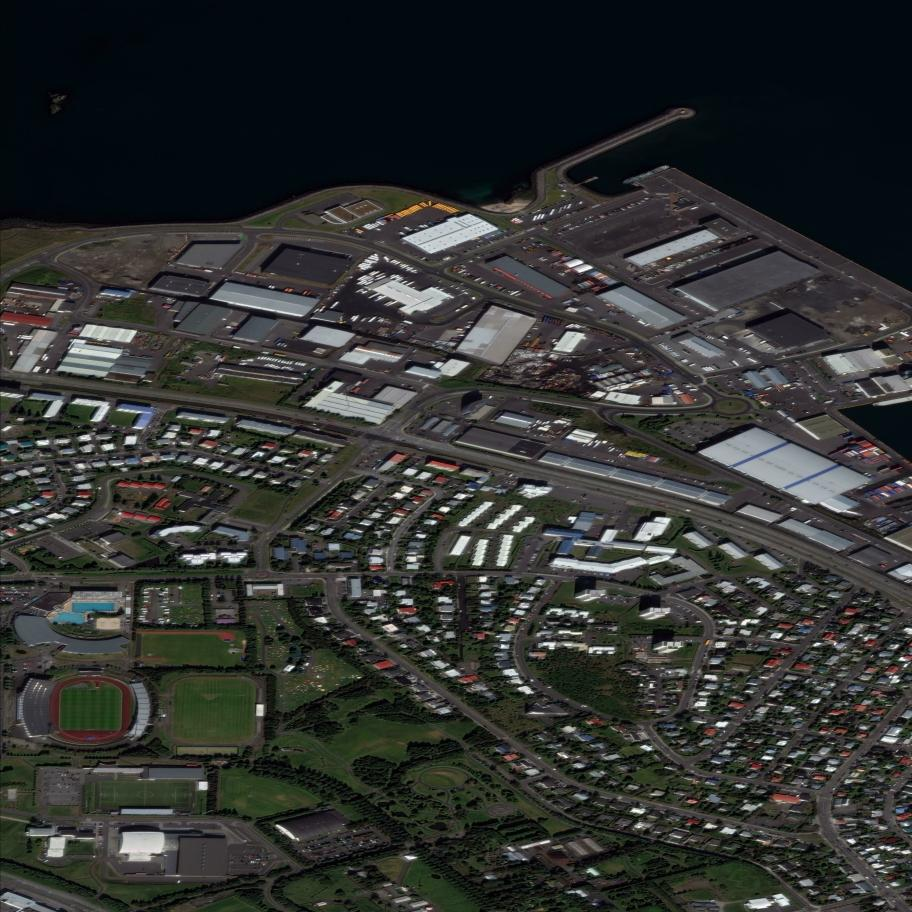large-vehicle: (40, 348, 50, 361), (452, 264, 466, 273), (386, 300, 399, 308), (368, 292, 380, 300), (374, 295, 387, 302), (592, 440, 602, 449), (329, 301, 339, 310), (682, 347, 692, 356), (359, 263, 372, 269), (375, 275, 386, 282), (357, 274, 368, 281), (19, 334, 34, 339), (368, 315, 377, 323), (748, 356, 757, 364), (405, 280, 415, 287), (360, 275, 371, 281), (364, 259, 377, 264), (732, 359, 740, 367), (702, 366, 710, 374), (419, 224, 428, 231), (363, 224, 372, 231), (17, 336, 32, 340), (274, 353, 286, 358), (438, 205, 448, 211), (352, 314, 359, 322), (421, 201, 429, 208), (423, 223, 431, 230), (376, 220, 384, 227), (713, 363, 721, 370), (514, 217, 523, 223), (512, 218, 521, 224), (510, 290, 519, 296), (545, 315, 551, 324), (400, 264, 409, 270), (365, 280, 374, 286), (355, 288, 364, 294), (384, 300, 393, 306), (355, 227, 364, 233), (399, 231, 408, 237), (404, 226, 413, 232), (367, 223, 376, 229), (446, 207, 455, 213), (441, 205, 450, 211), (434, 203, 443, 209), (432, 202, 441, 208), (443, 206, 453, 211), (449, 209, 459, 214), (419, 202, 426, 209), (729, 361, 736, 368), (705, 365, 712, 372), (415, 204, 423, 210), (411, 205, 419, 211), (511, 219, 519, 225), (542, 315, 548, 323), (489, 283, 497, 289), (485, 282, 493, 288), (366, 275, 374, 281), (549, 208, 555, 216), (397, 211, 405, 217), (404, 209, 412, 215), (406, 208, 414, 214), (764, 386, 773, 391), (455, 268, 464, 273), (359, 281, 368, 286), (759, 339, 768, 344), (365, 224, 374, 229), (436, 204, 445, 209), (402, 210, 409, 216), (413, 205, 420, 211), (360, 317, 367, 323), (507, 290, 514, 296), (43, 355, 49, 362), (536, 213, 542, 220), (396, 212, 403, 218), (705, 638, 710, 646), (458, 269, 466, 274), (399, 263, 407, 268), (688, 362, 696, 367), (409, 207, 417, 212), (609, 447, 615, 453), (448, 209, 457, 213), (507, 473, 513, 479), (391, 260, 398, 265), (394, 261, 401, 266), (406, 267, 413, 272), (389, 259, 396, 264), (474, 277, 481, 282), (562, 204, 567, 211), (400, 211, 407, 216), (558, 206, 563, 213), (540, 213, 545, 220), (708, 366, 715, 371), (408, 208, 415, 213), (371, 223, 378, 228), (262, 350, 269, 355), (233, 345, 241, 349), (205, 269, 213, 273), (300, 361, 305, 367), (618, 452, 623, 458), (294, 360, 299, 366), (281, 358, 286, 364), (277, 358, 283, 363), (310, 367, 316, 372), (480, 280, 486, 285), (532, 215, 537, 221), (356, 230, 362, 235), (286, 359, 291, 365), (495, 287, 502, 291), (410, 269, 417, 273), (464, 325, 471, 329), (397, 263, 404, 267), (669, 351, 676, 355), (666, 349, 673, 353), (664, 347, 671, 351), (673, 354, 680, 358), (672, 353, 679, 357), (297, 361, 302, 366), (541, 421, 546, 426), (545, 420, 550, 425), (581, 443, 586, 448), (271, 357, 276, 362), (274, 357, 279, 362), (289, 360, 294, 365), (281, 365, 286, 370), (535, 419, 540, 424), (537, 420, 542, 425), (620, 453, 625, 458), (268, 357, 273, 362), (265, 356, 270, 361), (375, 222, 380, 227), (239, 362, 245, 366), (264, 363, 270, 367), (274, 366, 280, 370), (467, 321, 475, 324), (567, 203, 571, 209), (671, 352, 677, 356), (644, 323, 650, 327), (661, 345, 668, 348), (456, 328, 463, 331), (458, 334, 465, 337), (657, 343, 664, 346), (668, 384, 675, 387), (303, 362, 307, 367), (287, 366, 292, 370), (268, 363, 273, 367), (270, 364, 275, 368), (464, 291, 469, 295), (257, 355, 261, 360), (261, 355, 265, 360), (709, 335, 713, 340), (263, 356, 267, 361), (284, 359, 288, 364), (428, 201, 432, 206), (273, 365, 279, 368), (659, 344, 665, 347), (662, 346, 668, 349), (682, 360, 688, 363), (247, 359, 253, 362), (681, 359, 687, 362), (686, 385, 692, 388), (285, 365, 289, 369), (690, 389, 698, 391), (706, 335, 710, 339), (289, 368, 294, 371), (668, 351, 673, 354), (663, 347, 668, 350), (241, 359, 246, 362), (143, 596, 150, 598), (138, 618, 145, 620), (636, 360, 643, 362), (164, 612, 170, 614), (163, 598, 169, 600), (141, 608, 147, 610), (639, 362, 645, 364), (161, 605, 167, 607), (148, 587, 154, 589), (159, 618, 164, 620), (163, 601, 168, 603), (159, 593, 164, 595), (155, 588, 160, 590), (164, 609, 169, 611), (159, 621, 164, 623), (140, 615, 145, 617), (159, 623, 164, 625), (163, 592, 169, 593), (142, 611, 148, 612), (143, 621, 149, 622), (144, 601, 149, 602), (144, 592, 149, 593)
ship: (622, 162, 671, 187)
small-vehicle: (692, 479, 698, 484), (382, 483, 387, 488), (140, 434, 144, 440), (699, 482, 705, 486), (314, 428, 320, 432), (737, 347, 743, 351), (56, 484, 61, 488), (44, 859, 49, 863), (335, 854, 339, 859), (421, 257, 426, 261), (414, 254, 419, 258), (865, 865, 869, 870), (560, 272, 565, 276), (542, 258, 547, 262), (559, 323, 563, 328), (560, 319, 564, 324), (553, 321, 557, 326), (556, 322, 560, 327), (742, 349, 747, 353), (661, 295, 666, 299), (812, 396, 816, 401), (694, 374, 699, 378), (143, 453, 149, 456), (111, 456, 117, 459), (538, 257, 544, 260), (337, 854, 341, 858), (420, 679, 424, 683), (407, 516, 411, 520), (431, 485, 435, 489), (122, 426, 126, 430), (152, 425, 156, 429), (166, 297, 170, 301), (426, 484, 430, 488), (358, 633, 362, 637), (350, 628, 354, 632), (357, 504, 361, 508), (377, 488, 381, 492), (401, 383, 405, 387), (39, 820, 43, 824), (347, 519, 351, 523), (46, 820, 50, 824), (50, 821, 54, 825), (48, 821, 52, 825), (149, 422, 153, 426), (360, 840, 364, 844), (354, 513, 358, 517), (316, 844, 320, 848), (318, 843, 322, 847), (345, 514, 349, 518), (316, 859, 320, 863), (554, 184, 558, 188), (873, 873, 877, 877), (380, 240, 384, 244), (450, 254, 454, 258), (342, 351, 346, 355), (161, 296, 165, 300), (423, 310, 427, 314), (444, 257, 448, 261), (489, 240, 493, 244), (523, 432, 527, 436), (699, 440, 703, 444), (596, 456, 600, 460), (817, 364, 821, 368), (592, 455, 596, 459), (676, 326, 680, 330), (497, 484, 501, 488), (521, 627, 525, 631), (813, 767, 817, 771), (870, 654, 874, 658), (487, 235, 491, 239), (506, 234, 510, 238), (558, 186, 562, 190), (563, 189, 567, 193), (561, 199, 565, 203), (8, 592, 12, 596), (563, 274, 567, 278), (561, 273, 565, 277), (558, 271, 562, 275), (696, 325, 700, 329), (554, 318, 558, 322), (550, 321, 554, 325), (658, 333, 662, 337), (774, 352, 778, 356), (14, 590, 18, 594), (16, 590, 20, 594), (10, 554, 14, 558), (12, 590, 16, 594), (203, 431, 207, 435), (683, 324, 687, 328), (700, 330, 704, 334), (534, 224, 538, 228), (686, 609, 690, 613), (3, 589, 7, 593), (25, 590, 29, 594), (415, 510, 419, 514), (804, 381, 808, 385), (402, 522, 406, 526), (377, 458, 381, 462), (365, 498, 369, 502), (782, 354, 786, 358), (816, 362, 820, 366), (808, 385, 812, 389), (810, 394, 814, 398), (668, 426, 672, 430), (711, 314, 715, 318), (714, 313, 718, 317), (703, 332, 707, 336), (665, 427, 669, 431), (503, 235, 507, 239), (585, 205, 589, 209), (532, 242, 536, 246), (506, 228, 510, 232), (521, 214, 525, 218), (446, 256, 450, 260), (469, 259, 473, 263), (530, 236, 534, 240), (557, 318, 560, 323), (224, 457, 229, 460), (215, 455, 220, 458), (139, 439, 142, 444), (62, 316, 67, 319), (419, 447, 424, 450), (370, 463, 375, 466), (549, 316, 552, 321), (328, 421, 333, 424), (376, 240, 381, 243), (575, 225, 580, 228), (352, 426, 357, 429), (315, 417, 320, 420), (374, 451, 379, 454), (603, 212, 608, 215), (528, 264, 533, 267), (536, 209, 541, 212), (846, 669, 851, 672), (788, 558, 793, 561), (664, 808, 669, 811), (758, 829, 763, 832), (530, 265, 535, 268), (548, 320, 551, 325), (745, 351, 750, 354), (739, 348, 744, 351), (746, 352, 751, 355), (632, 596, 637, 599), (302, 475, 307, 478), (78, 457, 83, 460), (83, 456, 88, 459), (0, 558, 5, 561), (748, 388, 753, 391), (707, 372, 712, 375), (664, 297, 669, 300), (322, 600, 326, 603), (109, 400, 112, 404), (211, 454, 215, 457), (111, 424, 114, 428), (109, 409, 112, 413), (89, 304, 93, 307), (371, 841, 375, 844), (374, 840, 377, 844), (169, 298, 172, 302), (342, 837, 345, 841), (348, 844, 351, 848), (104, 299, 107, 303), (148, 300, 152, 303), (739, 378, 743, 381), (116, 425, 119, 429), (145, 436, 148, 440), (157, 410, 160, 414), (158, 417, 161, 421), (457, 529, 460, 533), (301, 842, 304, 846), (303, 841, 306, 845), (413, 518, 416, 522), (368, 466, 372, 469), (392, 537, 395, 541), (397, 529, 400, 533), (405, 526, 408, 530), (409, 522, 413, 525), (454, 529, 457, 533), (364, 505, 368, 508), (410, 453, 414, 456), (379, 486, 383, 489), (353, 829, 356, 833), (38, 819, 41, 823), (181, 449, 185, 452), (17, 463, 21, 466), (28, 513, 32, 516), (201, 455, 205, 458), (17, 597, 20, 601), (44, 820, 47, 824), (42, 858, 46, 861), (98, 842, 102, 845), (317, 851, 320, 855), (323, 850, 326, 854), (311, 845, 315, 848), (351, 835, 354, 839), (356, 842, 360, 845), (15, 597, 18, 601), (56, 824, 59, 828), (42, 820, 45, 824), (314, 844, 317, 848), (330, 848, 333, 852), (343, 592, 347, 595), (322, 858, 326, 861), (244, 839, 247, 843), (308, 840, 311, 844), (317, 838, 320, 842), (321, 837, 324, 841), (302, 849, 305, 853), (308, 848, 311, 852), (328, 856, 331, 860), (330, 856, 333, 860), (423, 326, 426, 330), (442, 258, 446, 261), (425, 325, 428, 329), (6, 449, 10, 452), (309, 855, 313, 858), (532, 211, 536, 214), (384, 242, 388, 245), (463, 250, 467, 253), (468, 248, 472, 251), (476, 245, 480, 248), (489, 235, 493, 238), (295, 413, 299, 416), (335, 462, 339, 465), (691, 443, 695, 446), (668, 433, 672, 436), (533, 434, 537, 437), (546, 434, 549, 438), (603, 457, 606, 461), (489, 463, 493, 466), (528, 212, 532, 215), (693, 444, 697, 447), (616, 448, 619, 452), (613, 460, 617, 463), (697, 319, 700, 323), (687, 323, 691, 326), (419, 378, 422, 382), (589, 220, 593, 223), (641, 200, 645, 203), (413, 354, 417, 357), (407, 359, 411, 362), (710, 315, 713, 319), (779, 674, 782, 678), (875, 885, 878, 889), (513, 482, 516, 486), (515, 480, 518, 484), (446, 401, 450, 404), (444, 439, 447, 443), (474, 241, 478, 244), (587, 221, 591, 224), (499, 237, 502, 241), (579, 208, 582, 212), (691, 321, 695, 324), (530, 556, 536, 558), (540, 207, 544, 210), (557, 201, 561, 204), (478, 244, 481, 248), (820, 753, 824, 756), (682, 607, 686, 610), (508, 227, 511, 231), (544, 206, 548, 209), (553, 203, 557, 206), (573, 499, 576, 503), (409, 431, 413, 434), (501, 236, 504, 240), (491, 234, 495, 237), (566, 198, 570, 201), (571, 196, 575, 199), (570, 193, 574, 196), (90, 458, 94, 461), (229, 484, 232, 488), (584, 206, 587, 210), (43, 540, 47, 543), (0, 597, 4, 600), (552, 317, 555, 321), (894, 560, 898, 563), (540, 258, 544, 261), (10, 590, 13, 594), (45, 542, 49, 545), (493, 239, 497, 242), (767, 347, 771, 350), (593, 218, 597, 221), (5, 597, 9, 600), (661, 332, 664, 336), (528, 244, 531, 248), (693, 327, 697, 330), (647, 337, 651, 340), (6, 590, 9, 594), (270, 467, 274, 470), (697, 329, 701, 332), (675, 327, 678, 331), (278, 469, 282, 472), (307, 476, 311, 479), (8, 597, 11, 601), (57, 487, 61, 490), (572, 211, 576, 214), (413, 453, 416, 457), (409, 452, 412, 456), (55, 483, 59, 486), (19, 590, 22, 594), (735, 386, 739, 389), (326, 468, 330, 471), (341, 523, 345, 526), (260, 852, 264, 855), (258, 576, 262, 579), (225, 521, 229, 524), (332, 525, 336, 528), (802, 367, 805, 371), (28, 590, 31, 594), (4, 593, 7, 597), (670, 329, 673, 333), (737, 376, 741, 379), (747, 386, 751, 389), (795, 371, 798, 375), (799, 376, 802, 380), (729, 380, 733, 383), (812, 389, 815, 393), (571, 211, 574, 215), (540, 222, 543, 226), (543, 221, 546, 225), (800, 386, 804, 389), (716, 312, 719, 316), (540, 433, 543, 437), (607, 458, 610, 462), (551, 218, 554, 222), (665, 505, 669, 508), (653, 335, 656, 339), (719, 373, 723, 376), (729, 386, 733, 389), (665, 331, 668, 335), (699, 318, 702, 322), (611, 459, 614, 463), (664, 428, 667, 432), (563, 214, 566, 218), (482, 254, 486, 257), (538, 223, 541, 227), (699, 325, 703, 328), (671, 300, 675, 303), (566, 213, 570, 216), (520, 247, 524, 250), (728, 384, 732, 387), (736, 374, 740, 377), (561, 215, 565, 218), (513, 232, 517, 235), (447, 256, 451, 259), (472, 258, 476, 261), (481, 255, 485, 258), (486, 253, 490, 256), (575, 202, 578, 206), (568, 212, 571, 216), (574, 210, 577, 214), (239, 461, 244, 463), (98, 836, 103, 838), (106, 457, 111, 459), (583, 222, 588, 224), (644, 198, 649, 200), (290, 423, 295, 425), (94, 458, 99, 460), (615, 211, 620, 213), (533, 554, 538, 556), (202, 434, 207, 436), (324, 470, 329, 472), (72, 458, 77, 460), (82, 578, 87, 580), (726, 383, 731, 385), (153, 418, 156, 421), (173, 299, 176, 302), (155, 406, 158, 409), (249, 463, 252, 466), (368, 847, 371, 850), (370, 839, 373, 842), (200, 449, 203, 452), (108, 300, 111, 303), (388, 567, 391, 570), (340, 838, 343, 841), (147, 434, 150, 437), (307, 846, 310, 849), (263, 861, 266, 864), (265, 854, 268, 857), (442, 544, 445, 547), (395, 545, 398, 548), (406, 452, 409, 455), (332, 856, 335, 859), (191, 455, 194, 458), (36, 819, 39, 822), (337, 460, 340, 463), (51, 474, 54, 477), (45, 510, 48, 513), (359, 844, 362, 847), (51, 471, 54, 474), (344, 837, 347, 840), (325, 850, 328, 853), (327, 849, 330, 852), (343, 841, 346, 844), (347, 839, 350, 842), (351, 839, 354, 842), (354, 838, 357, 841), (345, 845, 348, 848), (309, 845, 312, 848), (318, 847, 321, 850), (358, 841, 361, 844), (315, 852, 318, 855), (12, 597, 15, 600), (10, 597, 13, 600), (129, 427, 132, 430), (332, 848, 335, 851), (306, 841, 309, 844), (310, 840, 313, 843), (311, 839, 314, 842), (314, 839, 317, 842), (319, 838, 322, 841), (357, 511, 360, 514), (352, 339, 355, 342), (126, 432, 129, 435), (319, 851, 322, 854), (321, 851, 324, 854), (401, 338, 404, 341), (467, 249, 470, 252), (475, 246, 478, 249), (480, 244, 483, 247), (484, 243, 487, 246), (492, 240, 495, 243), (495, 239, 498, 242), (404, 329, 407, 332), (569, 228, 572, 231), (621, 449, 624, 452), (688, 435, 691, 438), (666, 432, 669, 435), (605, 458, 608, 461), (627, 463, 630, 466), (655, 335, 658, 338), (656, 334, 659, 337), (505, 481, 508, 484), (503, 229, 506, 232), (553, 568, 556, 571), (48, 467, 51, 470), (19, 593, 22, 596), (16, 593, 19, 596), (497, 238, 500, 241), (488, 471, 491, 474), (564, 569, 567, 572), (760, 696, 763, 699), (771, 674, 774, 677), (696, 675, 699, 678), (649, 337, 652, 340), (550, 204, 553, 207), (22, 594, 25, 597), (26, 593, 29, 596), (608, 211, 611, 214), (582, 207, 585, 210), (576, 210, 579, 213), (695, 320, 698, 323), (11, 593, 14, 596), (48, 543, 51, 546), (651, 336, 654, 339), (554, 228, 557, 231), (3, 597, 6, 600), (490, 251, 493, 254), (492, 251, 495, 254), (605, 596, 608, 599), (8, 590, 11, 593), (701, 332, 704, 335), (59, 496, 62, 499), (0, 590, 3, 593), (24, 590, 27, 593), (21, 590, 24, 593), (13, 593, 16, 596), (43, 588, 46, 591), (477, 256, 480, 259), (792, 352, 795, 355), (786, 354, 789, 357), (343, 522, 346, 525), (6, 593, 9, 596), (785, 354, 788, 357), (792, 360, 795, 363), (788, 353, 791, 356), (804, 370, 807, 373), (667, 331, 670, 334), (556, 217, 559, 220), (536, 224, 539, 227), (702, 317, 705, 320), (560, 216, 563, 219), (550, 219, 553, 222), (548, 220, 551, 223), (546, 220, 549, 223), (621, 529, 624, 532), (668, 330, 671, 333), (523, 246, 526, 249), (544, 221, 547, 224), (512, 233, 515, 236), (541, 222, 544, 225), (701, 324, 704, 327), (701, 318, 704, 321), (565, 214, 568, 217), (808, 374, 811, 377), (787, 348, 790, 351), (553, 218, 556, 221), (61, 319, 65, 321), (91, 302, 95, 304), (147, 301, 151, 303), (244, 462, 248, 464), (90, 303, 94, 305), (329, 848, 331, 852), (84, 311, 88, 313), (255, 860, 257, 864), (231, 860, 233, 864), (256, 859, 260, 861), (114, 425, 116, 429), (253, 860, 255, 864), (257, 860, 259, 864), (261, 860, 263, 864), (258, 867, 260, 871), (401, 533, 403, 537), (360, 461, 364, 463), (176, 453, 178, 457), (322, 602, 326, 604), (23, 515, 27, 517), (31, 462, 35, 464), (104, 455, 108, 457), (99, 840, 103, 842), (99, 829, 103, 831), (13, 668, 17, 670), (23, 663, 27, 665), (23, 668, 27, 670), (177, 449, 181, 451), (163, 449, 167, 451), (236, 463, 240, 465), (133, 452, 137, 454), (129, 452, 133, 454), (139, 454, 143, 456), (88, 822, 90, 826), (127, 426, 129, 430), (277, 420, 281, 422), (558, 232, 562, 234), (627, 206, 631, 208), (419, 458, 423, 460), (401, 331, 405, 333), (277, 409, 281, 411), (370, 455, 374, 457), (566, 229, 570, 231), (518, 216, 522, 218), (563, 230, 567, 232), (599, 215, 603, 217), (402, 440, 406, 442), (395, 438, 399, 440), (530, 559, 534, 561), (408, 431, 412, 433), (609, 213, 613, 215), (59, 494, 63, 496), (621, 209, 625, 211), (89, 456, 93, 458), (614, 209, 618, 211), (114, 826, 116, 830), (592, 214, 594, 218), (597, 217, 601, 219), (573, 221, 575, 225), (587, 216, 589, 220), (569, 223, 571, 227), (44, 508, 48, 510), (251, 467, 255, 469), (53, 460, 57, 462), (99, 823, 103, 825), (735, 374, 739, 376), (727, 378, 731, 380), (52, 578, 56, 580), (784, 365, 788, 367), (714, 382, 718, 384), (721, 389, 725, 391), (728, 379, 732, 381), (798, 351, 800, 355), (796, 351, 798, 355), (696, 312, 700, 314), (713, 375, 717, 377), (731, 388, 735, 390), (691, 309, 695, 311), (104, 421, 106, 424), (205, 450, 207, 453), (102, 299, 104, 302), (112, 300, 114, 303), (374, 596, 376, 599), (378, 596, 380, 599), (248, 860, 250, 863), (251, 860, 253, 863), (259, 861, 261, 864), (263, 863, 265, 866), (264, 856, 266, 859), (268, 854, 270, 857), (254, 867, 256, 870), (376, 596, 378, 599), (64, 773, 66, 776), (510, 234, 513, 236), (47, 793, 49, 796), (460, 610, 462, 613), (287, 584, 289, 587), (328, 482, 331, 484), (410, 433, 413, 435), (296, 424, 299, 426), (249, 854, 251, 857), (145, 446, 147, 449), (28, 462, 31, 464), (251, 849, 253, 852), (244, 854, 246, 857), (94, 827, 96, 830), (99, 832, 102, 834), (61, 774, 63, 777), (13, 666, 16, 668), (24, 665, 27, 667), (45, 772, 47, 775), (57, 783, 59, 786), (59, 785, 61, 788), (66, 785, 68, 788), (203, 449, 205, 452), (350, 844, 352, 847), (315, 847, 317, 850), (77, 827, 79, 830), (79, 827, 81, 830), (81, 827, 83, 830), (84, 827, 86, 830), (86, 827, 88, 830), (90, 823, 92, 826), (94, 823, 96, 826), (92, 828, 94, 831), (313, 848, 315, 851), (132, 822, 134, 825), (119, 826, 121, 829), (414, 460, 417, 462), (571, 227, 574, 229), (627, 205, 630, 207), (415, 331, 417, 334), (580, 224, 583, 226), (619, 449, 621, 452), (479, 240, 482, 242), (672, 329, 674, 332), (638, 203, 641, 205), (636, 201, 639, 203), (617, 208, 620, 210), (589, 216, 591, 219), (620, 207, 623, 209), (24, 593, 26, 596), (557, 227, 559, 230), (612, 212, 615, 214), (580, 219, 582, 222), (578, 220, 580, 223), (564, 225, 566, 228), (571, 223, 573, 226), (576, 221, 578, 224), (585, 217, 587, 220), (47, 507, 50, 509), (160, 415, 162, 418), (582, 218, 584, 221), (36, 511, 39, 513), (274, 469, 277, 471), (253, 854, 255, 857), (257, 854, 259, 857), (614, 597, 616, 600), (289, 579, 291, 582), (690, 639, 692, 642), (693, 310, 696, 312), (684, 314, 686, 317), (684, 305, 687, 307), (745, 384, 748, 386), (624, 208, 629, 209), (394, 553, 396, 555), (99, 835, 103, 836), (243, 849, 244, 853), (13, 671, 17, 672), (262, 854, 263, 858), (600, 217, 604, 218), (630, 204, 634, 205), (635, 204, 637, 206), (605, 215, 609, 216), (719, 637, 723, 638), (488, 537, 492, 538), (560, 226, 561, 230), (57, 500, 61, 501), (99, 828, 103, 829), (99, 826, 103, 827), (283, 579, 284, 582), (288, 579, 289, 582), (117, 826, 118, 829), (86, 823, 87, 826), (58, 771, 59, 774), (623, 206, 626, 207), (562, 226, 563, 229), (567, 224, 568, 227), (394, 557, 395, 559)
